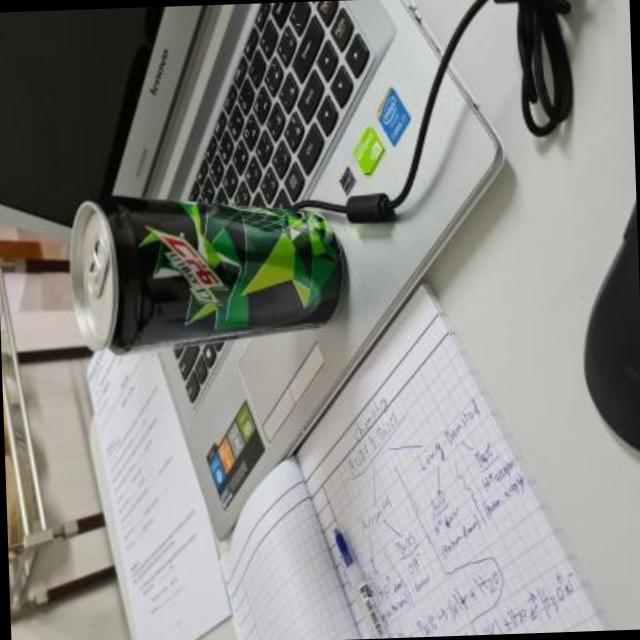cardboard paper: (308, 304, 602, 639), (87, 353, 227, 640), (223, 458, 358, 640)
metal: (69, 199, 347, 352)
